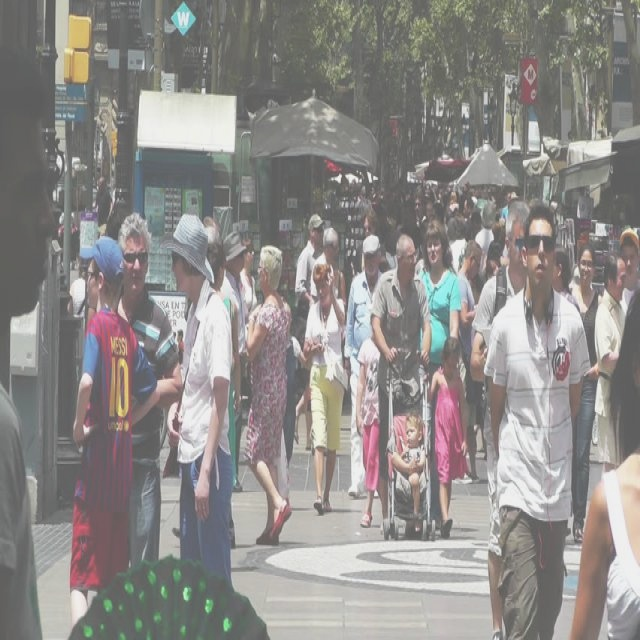pessoa: (481, 202, 592, 638), (72, 233, 160, 638), (467, 200, 530, 639), (164, 209, 234, 603), (116, 211, 184, 574), (570, 288, 639, 639), (368, 232, 435, 536), (241, 242, 295, 544), (302, 261, 350, 519), (314, 176, 515, 235), (0, 376, 45, 639), (566, 237, 604, 548), (346, 232, 387, 503), (205, 240, 239, 552), (422, 334, 470, 542), (594, 247, 630, 480), (414, 218, 464, 372), (454, 238, 482, 482), (222, 230, 246, 494), (354, 328, 384, 531), (202, 222, 242, 358), (282, 300, 308, 486), (390, 412, 428, 536), (64, 253, 98, 360), (294, 212, 327, 320), (378, 134, 444, 180), (310, 226, 340, 310), (552, 246, 583, 322), (354, 205, 387, 275), (468, 234, 510, 284), (618, 226, 639, 314), (239, 236, 258, 325), (330, 246, 348, 306), (169, 312, 186, 372), (446, 236, 466, 272), (378, 238, 393, 274), (384, 237, 397, 268), (304, 404, 314, 444), (412, 230, 424, 262), (202, 213, 216, 228)
